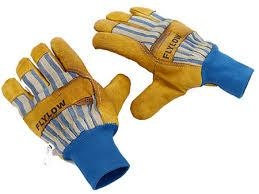gloves: (1, 36, 131, 191), (92, 7, 255, 121)
